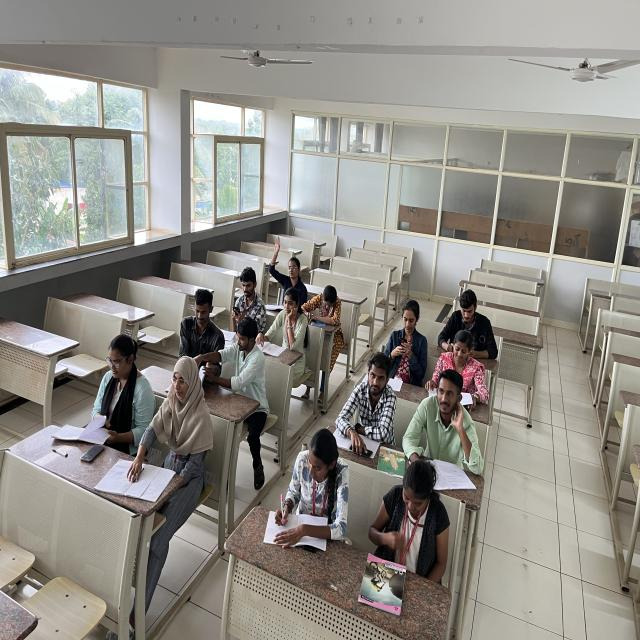Hand Rising: (265, 233, 309, 297)
Reading: (74, 319, 144, 459)
Using Phone: (440, 292, 498, 362), (381, 296, 430, 377), (228, 264, 266, 324)
Writing: (128, 350, 211, 492), (270, 424, 350, 548)
